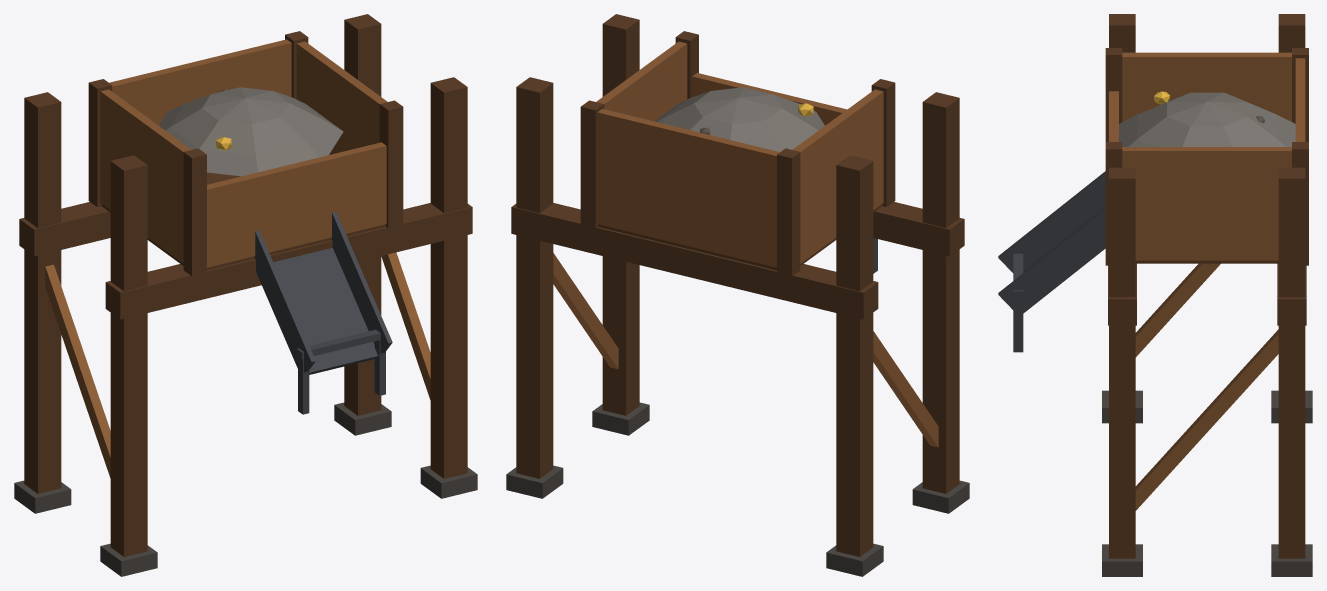
Rendered from mine_loading_chute.glb.
The picture shows the model from 3 angles, left to right: view 1: azimuth 30°, elevation 25°; view 2: azimuth 150°, elevation 25°; view 3: azimuth 270°, elevation 25°; orthographic projection.
Parts seen in each view (by area): view 1: mine_loading_chute; view 2: mine_loading_chute; view 3: mine_loading_chute.
Part boxes in pixels (x1,y1,x2,y2): mine_loading_chute: [14, 14, 477, 576]; mine_loading_chute: [506, 14, 969, 576]; mine_loading_chute: [998, 14, 1312, 576].
Bounding box in the file's own units: 3.34 × 3.6 × 2.59.
